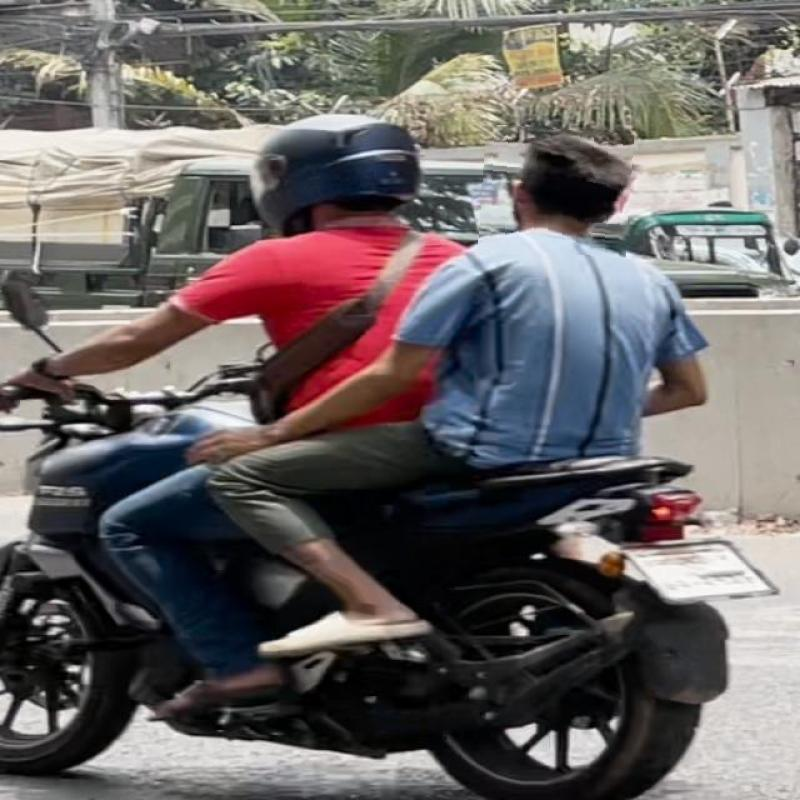nohelmet: (480, 126, 632, 255)
